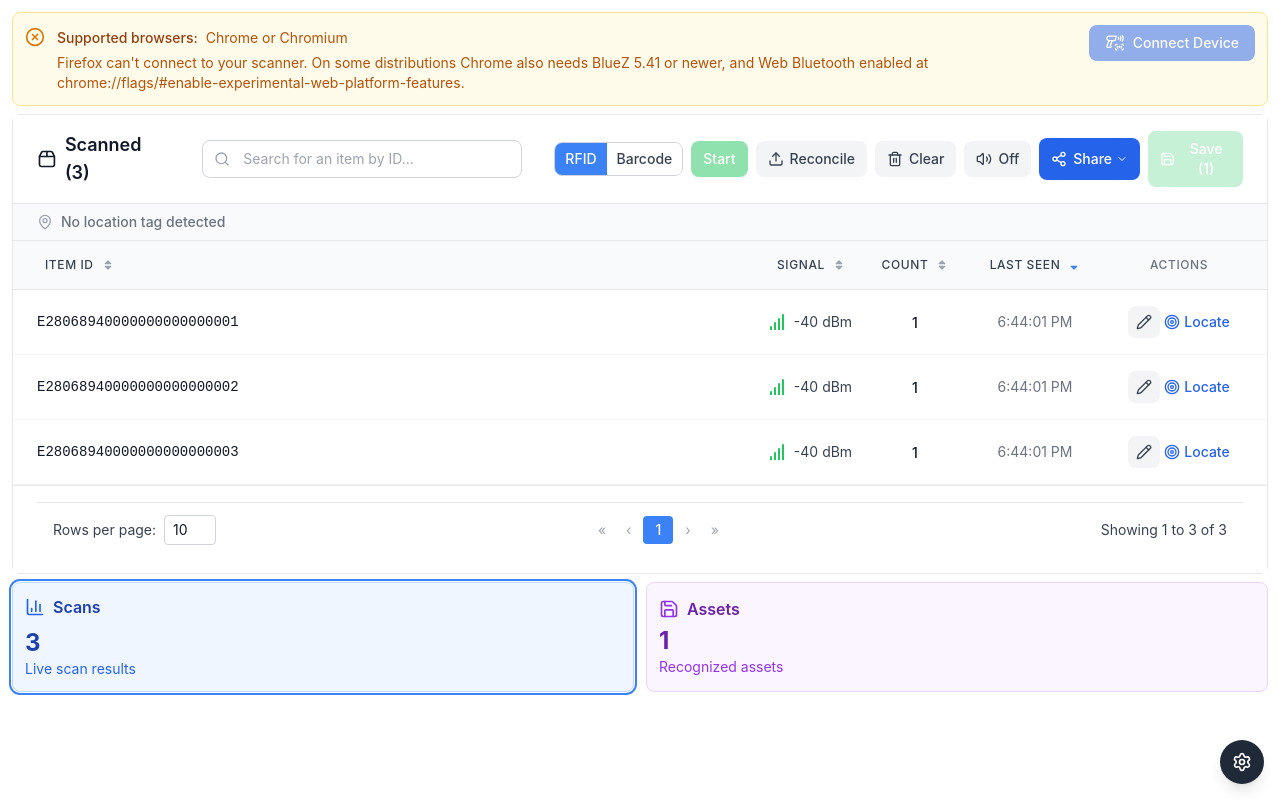
Test: InventoryScreen reconcile collapse (TRA-1036) › keeps tile counts unfiltered while a tile filter is active
Expected: the button "Scans 3 Live scan results" is shown, [12,582,634,692]
Click the button "Assets 1 Recognized assets": (713, 609) [646,582,1268,692]
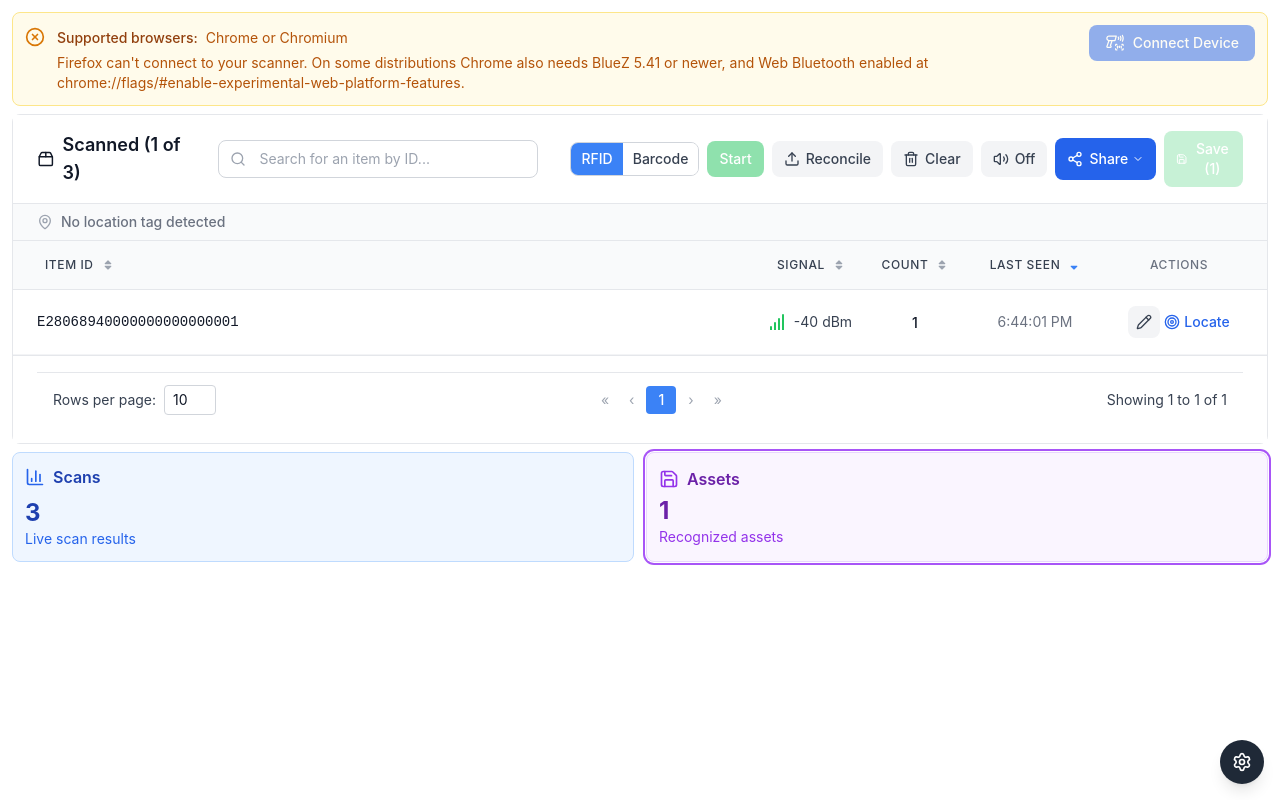
Expected: the button "Scans 3 Live scan results" is shown, [12,452,634,562]
Now the text "E28068940000000000000002" is not shown
